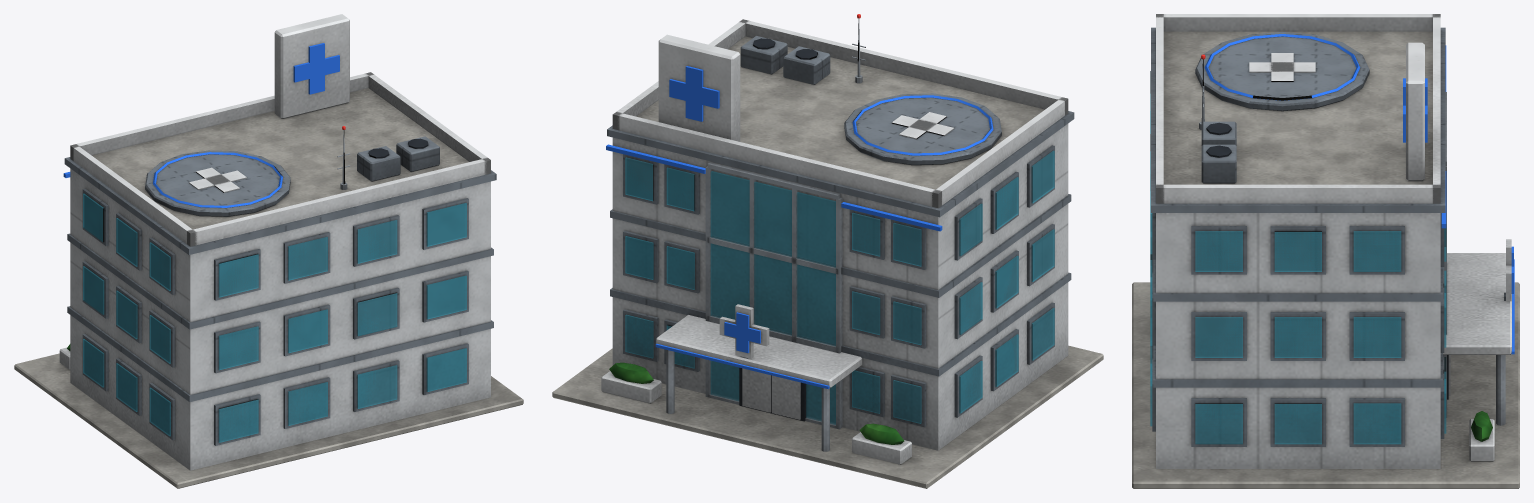
The model's file is hospital_humano.fbx.
The picture shows the model from 3 angles, left to right: view 1: azimuth 30°, elevation 25°; view 2: azimuth 150°, elevation 25°; view 3: azimuth 270°, elevation 25°; orthographic projection. The views are drawn at different scales.
Parts seen in each view (by area): view 1: hospital_humano, hospital_humano_cristal, hospital_humano_neon_azul; view 2: hospital_humano, hospital_humano_cristal, hospital_humano_neon_azul; view 3: hospital_humano, hospital_humano_cristal, hospital_humano_neon_azul.
Boxes of the visible parts, box(x1,y1,x2,y2) form: hospital_humano: box(14, 14, 523, 488); hospital_humano_cristal: box(83, 193, 466, 442); hospital_humano_neon_azul: box(63, 43, 339, 207); hospital_humano: box(552, 19, 1103, 488); hospital_humano_cristal: box(625, 150, 1054, 424); hospital_humano_neon_azul: box(606, 66, 993, 388); hospital_humano: box(1132, 14, 1519, 488); hospital_humano_cristal: box(1150, 71, 1446, 444); hospital_humano_neon_azul: box(1204, 34, 1514, 354).
Size of the model in its own units: 30 by 26.1 by 24.5.
3 materials, 3 textured.
